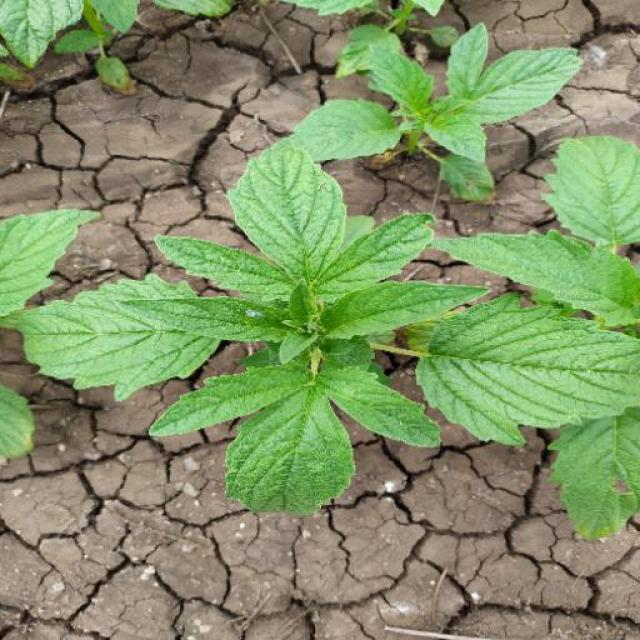crop: (34, 144, 455, 525), (445, 109, 640, 560), (275, 26, 587, 208)
